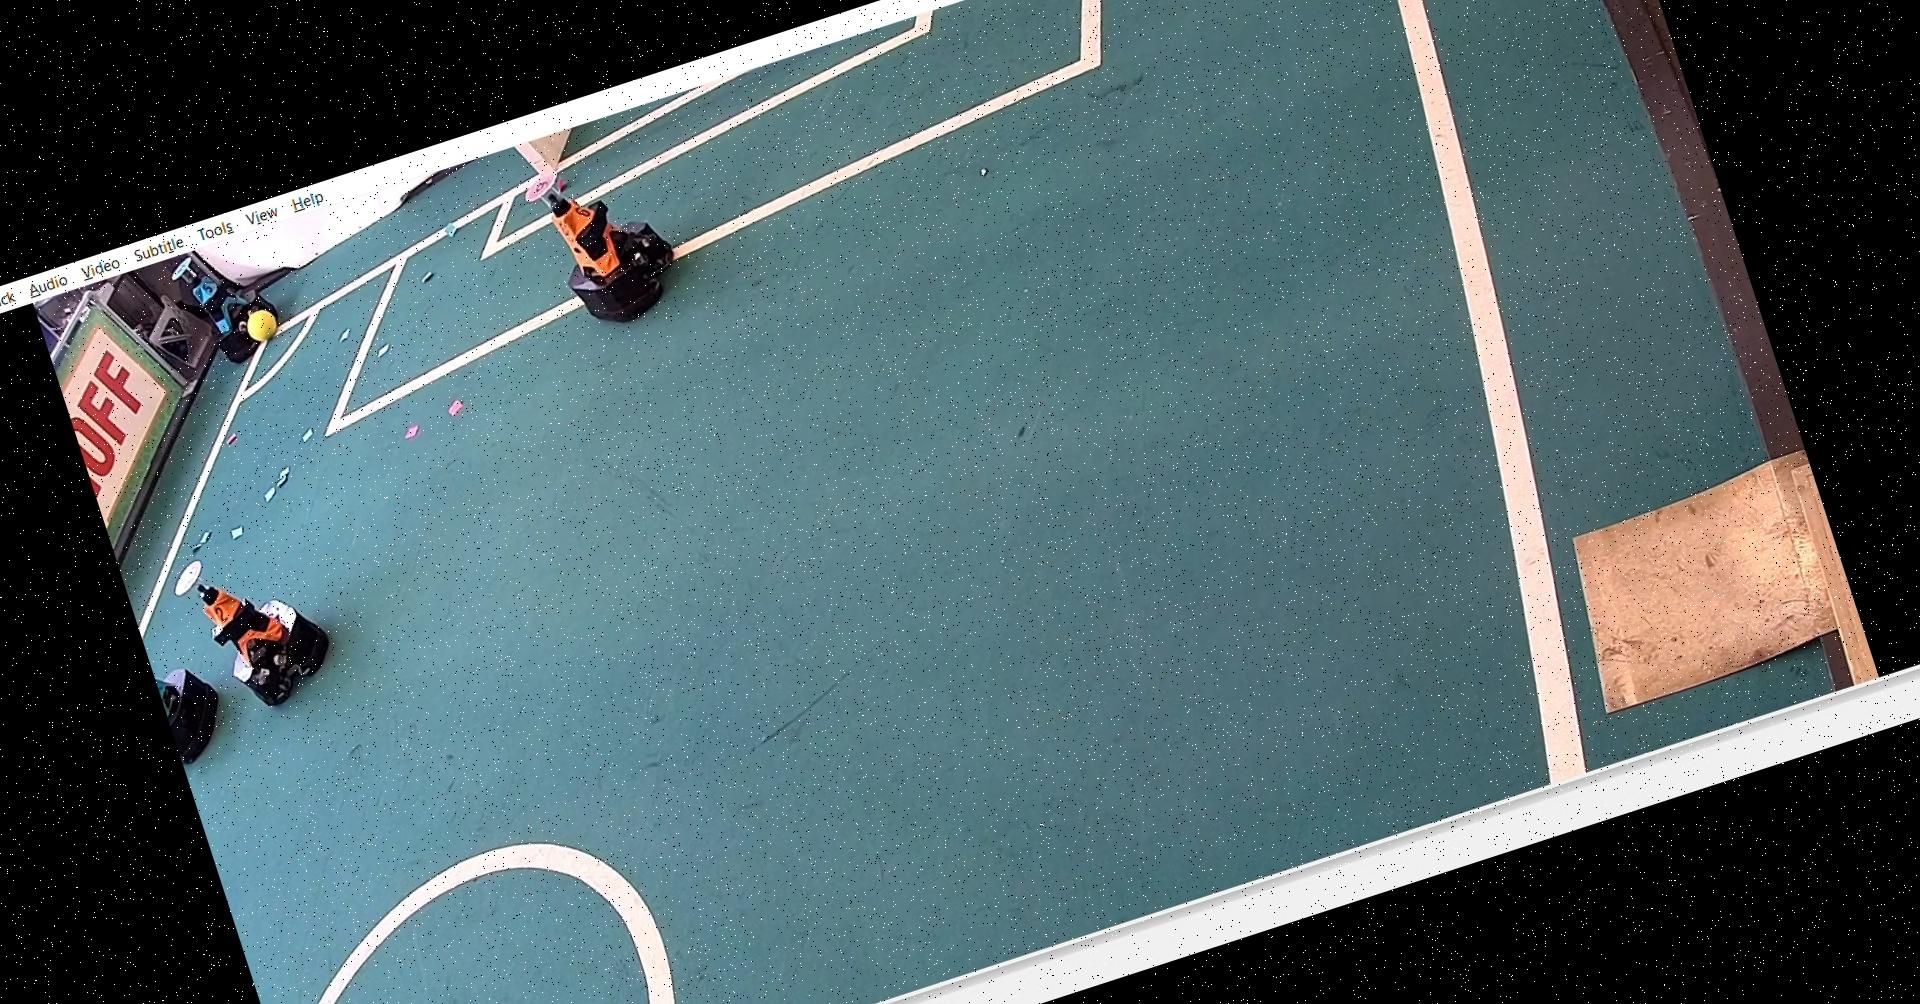Ball: (240, 302, 290, 349)
Team_Blue: (169, 237, 291, 371)
Team_Red: (165, 524, 345, 727), (521, 137, 695, 341)
